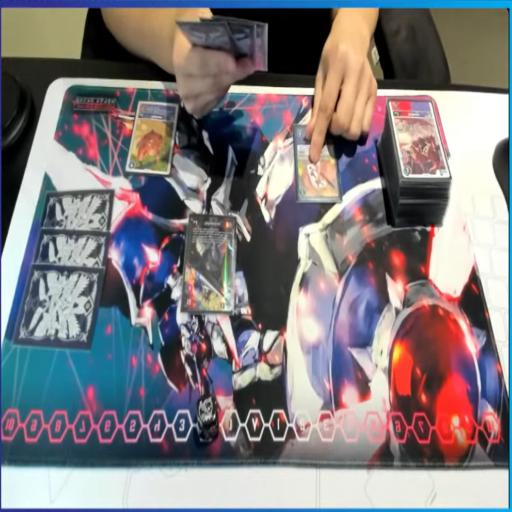card: (179, 216, 236, 314), (387, 92, 447, 180), (294, 121, 340, 204), (127, 104, 180, 171)
